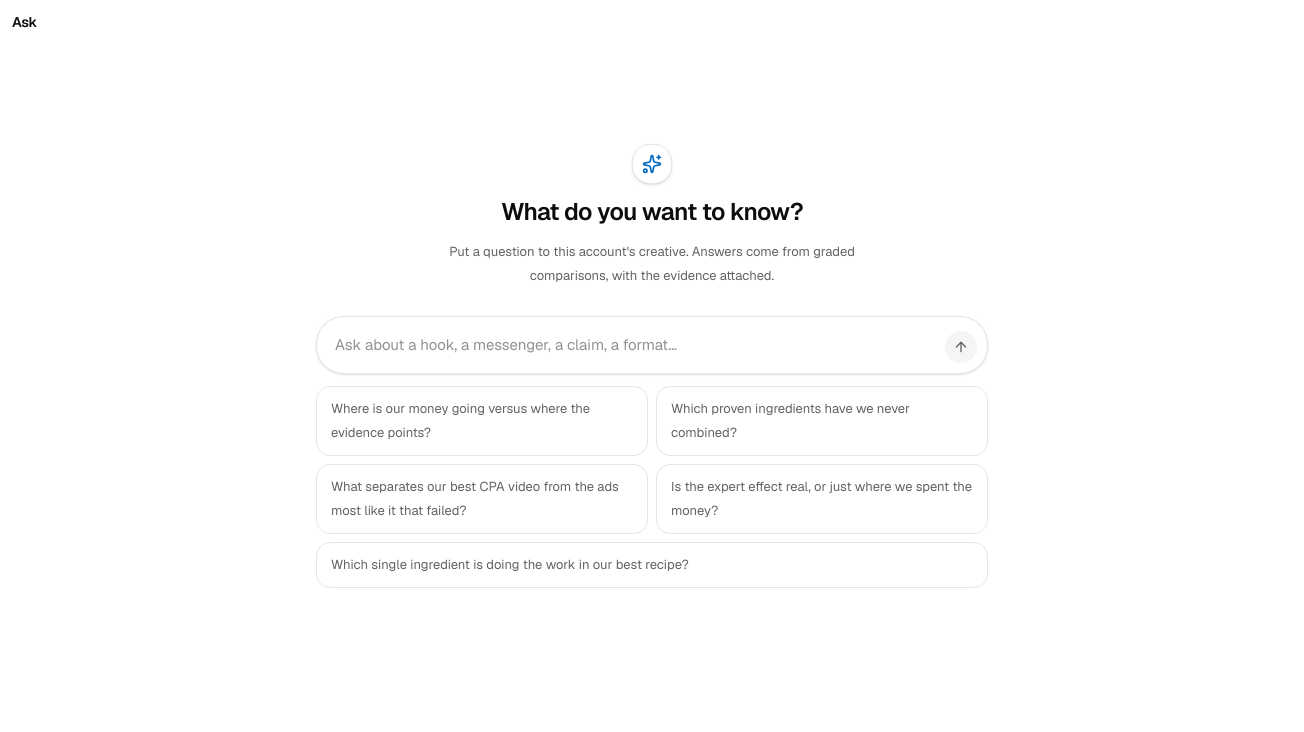
AccountReadAsk › renders an unmappable reply as plain guidance, not an answer block
Type "what ROAS will I get?" into the text box named "ask this account a question" at x=632, y=345, box [327,325,937,365]
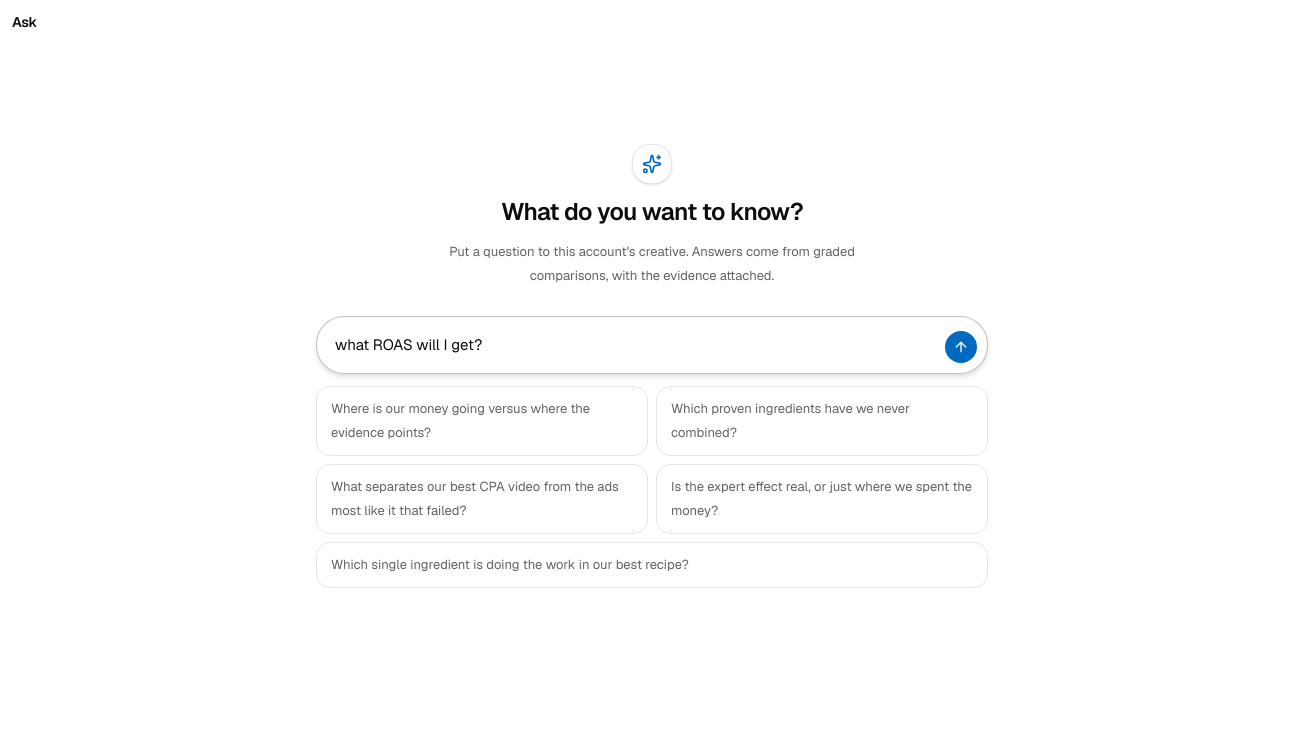
Click the button named "Ask" at x=961, y=347, box [945,331,977,363]
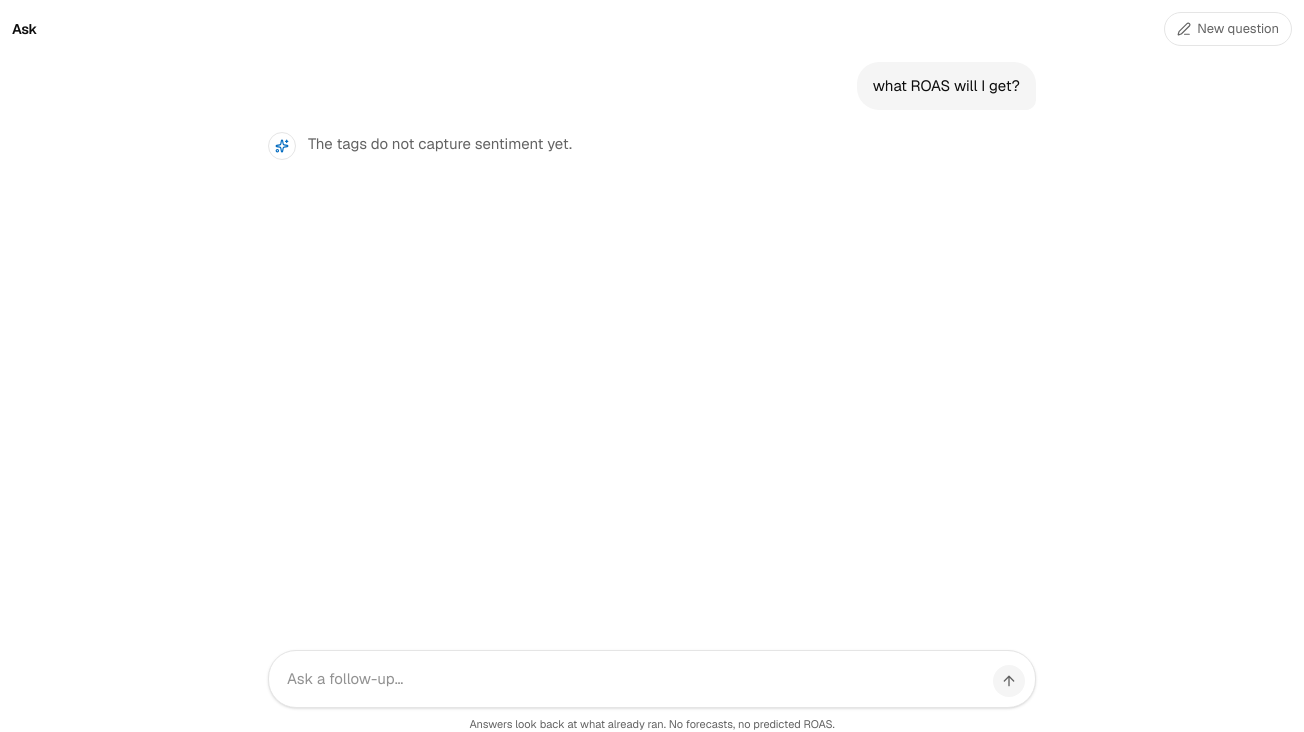
Now the text "The tags do not capture sentiment yet." is shown, box [308,134,572,152]
